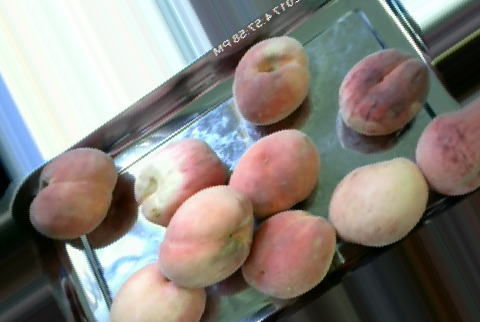Peach: (154, 184, 257, 288), (133, 139, 229, 232), (327, 158, 426, 247), (240, 207, 334, 300), (27, 147, 118, 239), (228, 130, 320, 217), (339, 49, 428, 137), (234, 36, 309, 124), (108, 261, 207, 322), (415, 107, 478, 195)
